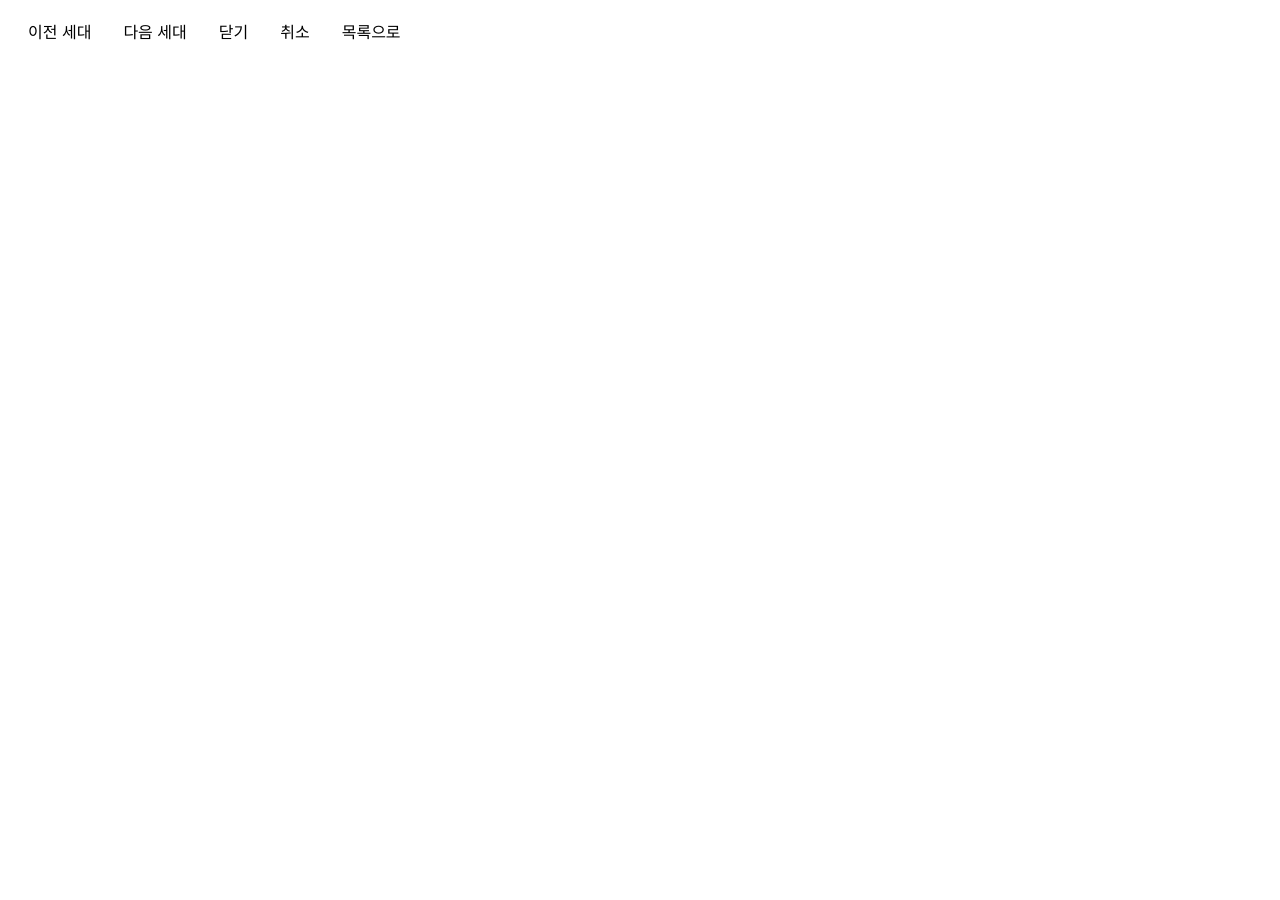
Test case: 세대 상세 상단 이동 버튼 › 미저장 확인창에서 계속 편집하면 버튼 상태 해제, 이동 요청 없음
Click the button "다음 세대" at (155, 32), box [111,16,199,48]
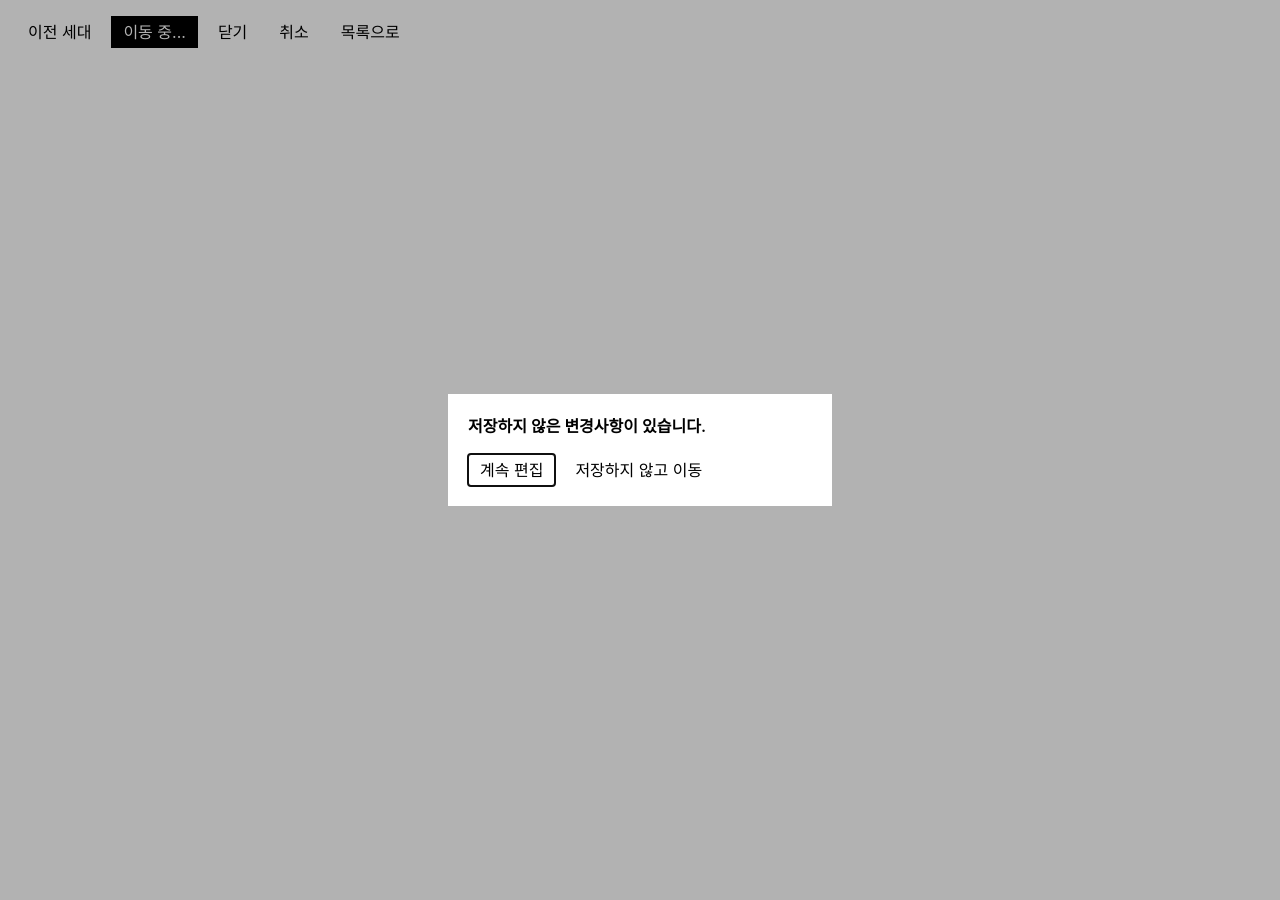
Expected: the button "이동 중..." is shown, [111,16,198,48]
Click the button "계속 편집" at (512, 470), box [468,454,555,486]
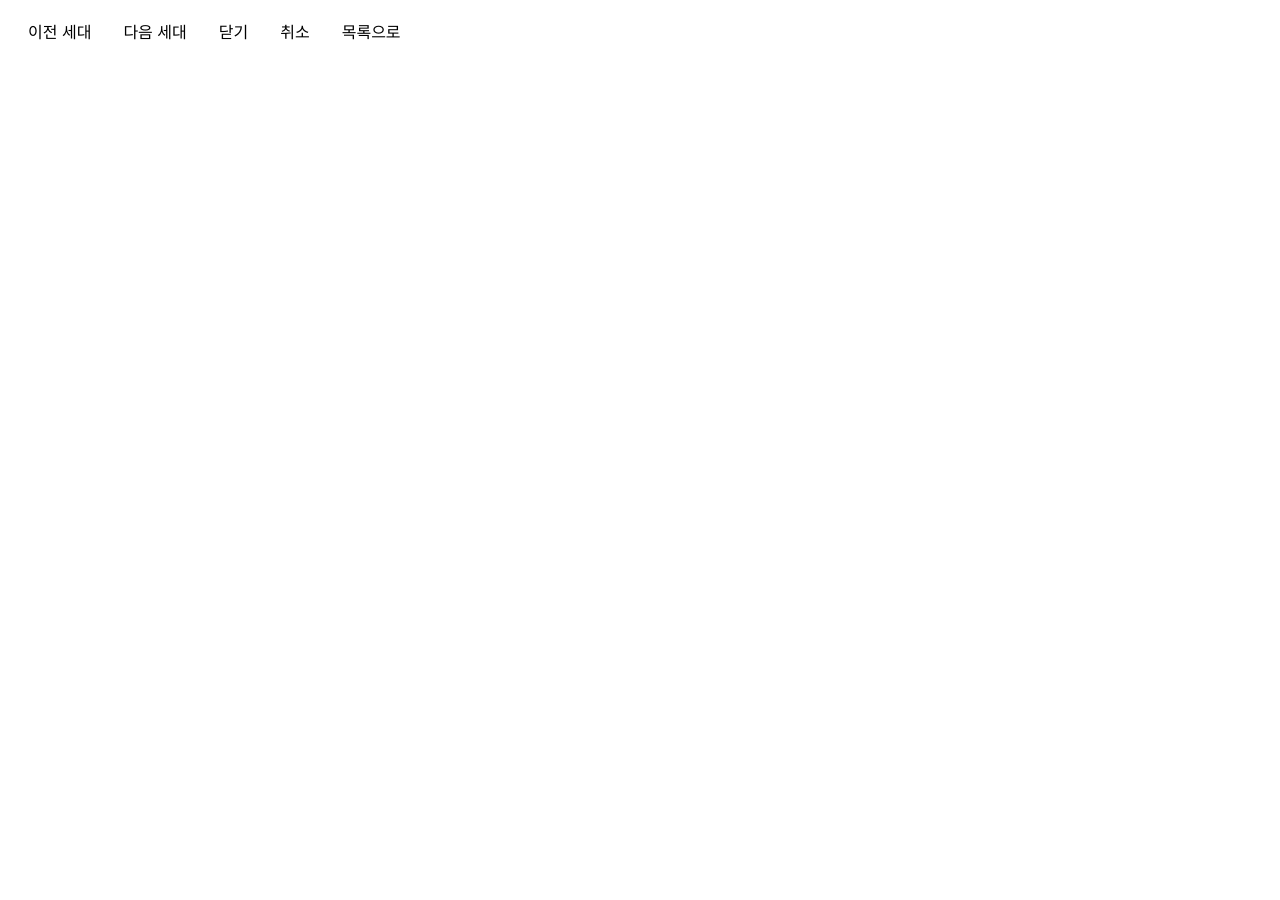
Expected: the button "이동 중..." is gone
